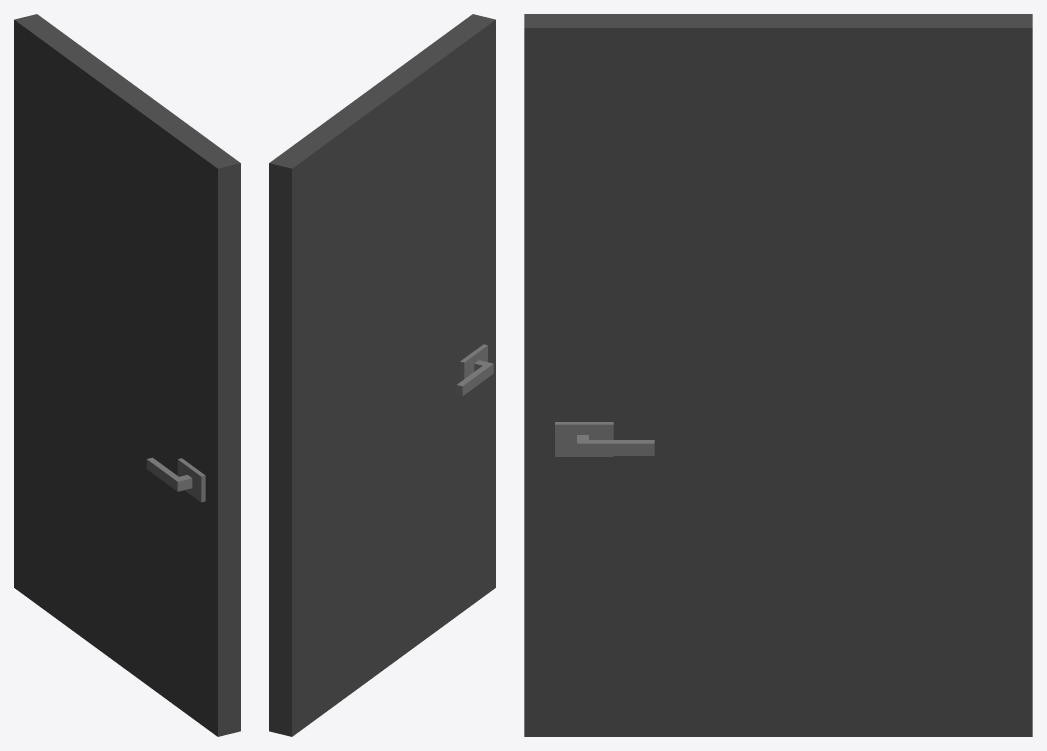
The model's file is Door_Gray.fbx.
The picture shows the model from 3 angles, left to right: view 1: azimuth 30°, elevation 25°; view 2: azimuth 150°, elevation 25°; view 3: azimuth 270°, elevation 25°; orthographic projection. The views are drawn at different scales.
Parts seen in each view (by area): view 1: Door, Handle; view 2: Door, Handle; view 3: Door, Handle.
Part boxes in pixels (box(x1,y1,x2,y2)): Door: box(14, 14, 240, 736); Handle: box(146, 457, 192, 491); Door: box(269, 14, 495, 736); Handle: box(456, 360, 493, 396); Door: box(524, 14, 1032, 736); Handle: box(577, 435, 654, 455).
Bounding box in the file's own units: 44.72 × 400 × 260.
